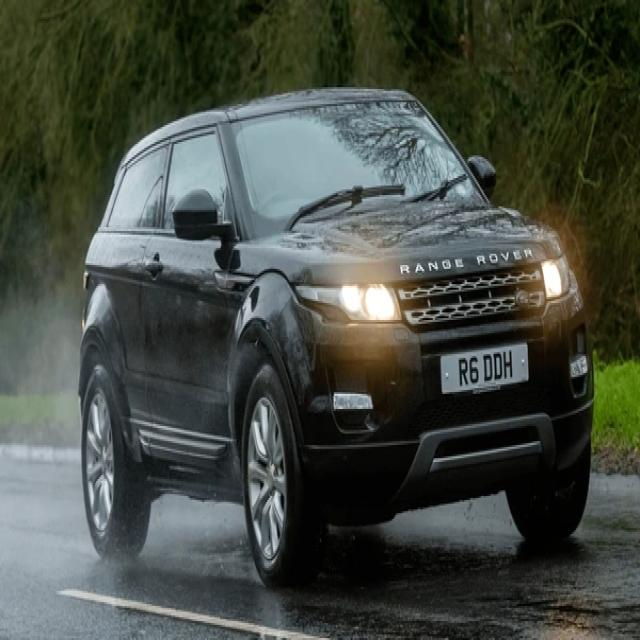rangerover: (398, 244, 534, 277)
